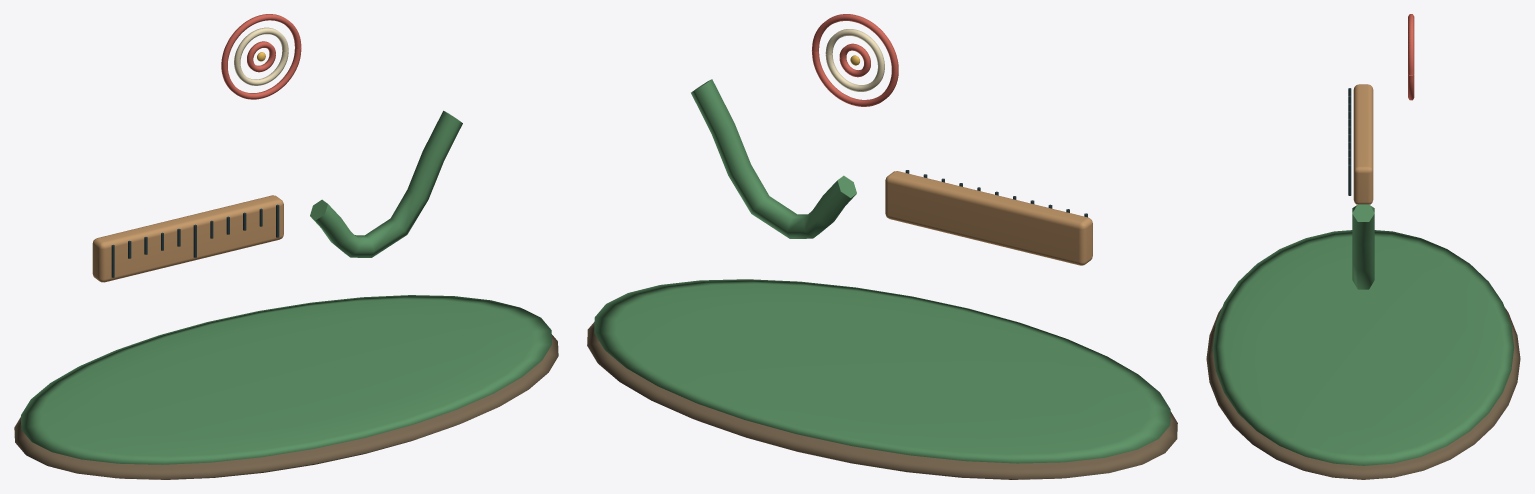
Rendered from complete-third-correct-and-good.glb.
3 renders of one model, left to right at view 1: azimuth 30°, elevation 25°; view 2: azimuth 150°, elevation 25°; view 3: azimuth 270°, elevation 25°, orthographic. The views are drawn at different scales.
Visible parts, largest first — view 1: complete-third-correct-and-good_surface_01, complete-third-correct-and-good_surface_00, complete-third-correct-and-good_surface_02, complete-third-correct-and-good_surface_04, complete-third-correct-and-good_surface_05, complete-third-correct-and-good_surface_03; view 2: complete-third-correct-and-good_surface_01, complete-third-correct-and-good_surface_00, complete-third-correct-and-good_surface_02, complete-third-correct-and-good_surface_04, complete-third-correct-and-good_surface_05; view 3: complete-third-correct-and-good_surface_01, complete-third-correct-and-good_surface_00, complete-third-correct-and-good_surface_02, complete-third-correct-and-good_surface_04, complete-third-correct-and-good_surface_03.
Boxes of the visible parts, left/top/right/bottom form: complete-third-correct-and-good_surface_01: left=21, top=110, right=551, bottom=464; complete-third-correct-and-good_surface_00: left=14, top=335, right=558, bottom=479; complete-third-correct-and-good_surface_02: left=92, top=195, right=283, bottom=282; complete-third-correct-and-good_surface_04: left=221, top=14, right=301, bottom=99; complete-third-correct-and-good_surface_05: left=234, top=27, right=288, bottom=85; complete-third-correct-and-good_surface_03: left=111, top=204, right=279, bottom=277; complete-third-correct-and-good_surface_01: left=594, top=79, right=1170, bottom=463; complete-third-correct-and-good_surface_00: left=587, top=322, right=1177, bottom=479; complete-third-correct-and-good_surface_02: left=885, top=171, right=1092, bottom=265; complete-third-correct-and-good_surface_04: left=812, top=14, right=898, bottom=106; complete-third-correct-and-good_surface_05: left=825, top=29, right=884, bottom=91; complete-third-correct-and-good_surface_01: left=1212, top=204, right=1514, bottom=465; complete-third-correct-and-good_surface_00: left=1206, top=308, right=1520, bottom=479; complete-third-correct-and-good_surface_02: left=1353, top=84, right=1373, bottom=204; complete-third-correct-and-good_surface_04: left=1408, top=14, right=1414, bottom=100; complete-third-correct-and-good_surface_03: left=1348, top=88, right=1351, bottom=195.
Size of the model in its own units: 4.56 by 3.12 by 2.5.
